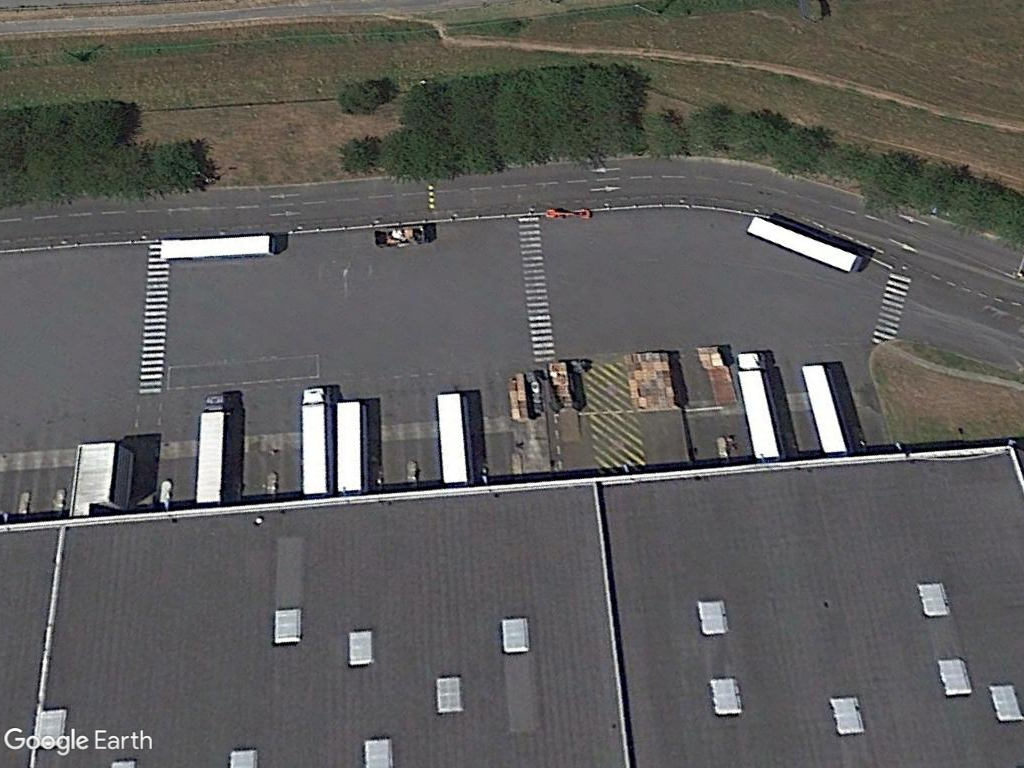truck: (734, 345, 784, 462), (192, 389, 234, 507), (296, 381, 333, 501)
